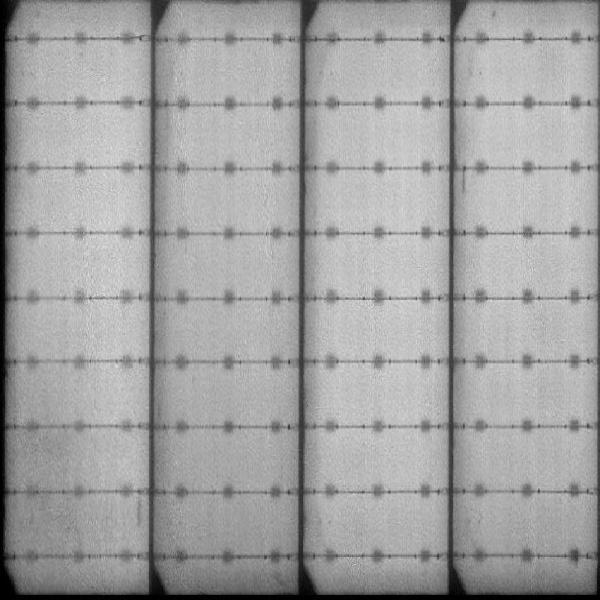scratch: (458, 164, 471, 203)
